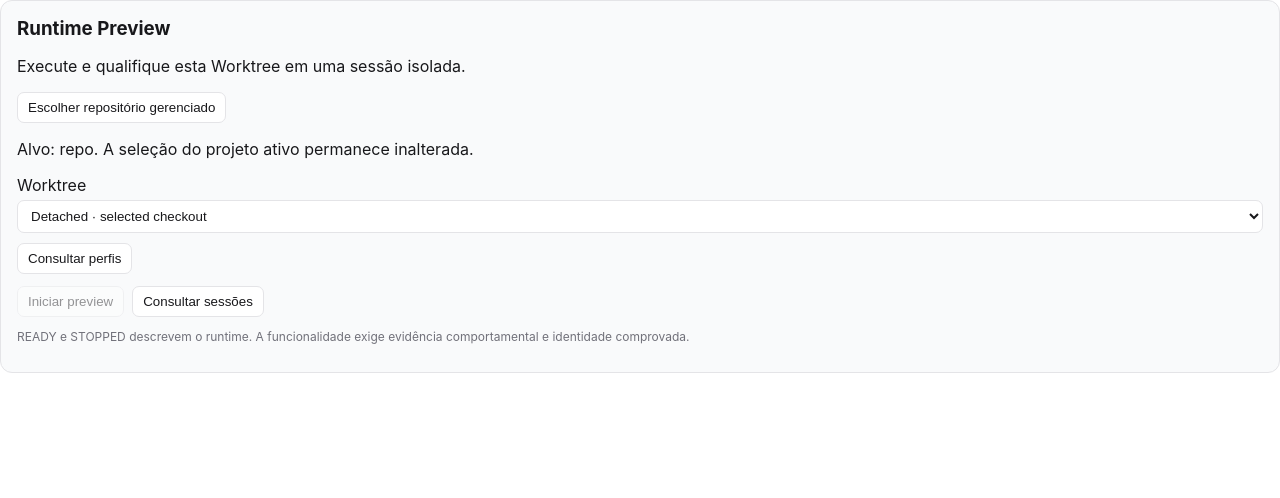
Scenario: consults a completed asynchronous preflight only for the exact selected identity
Click the button "Consultar perfis" at (75, 258), box [17,243,132,274]
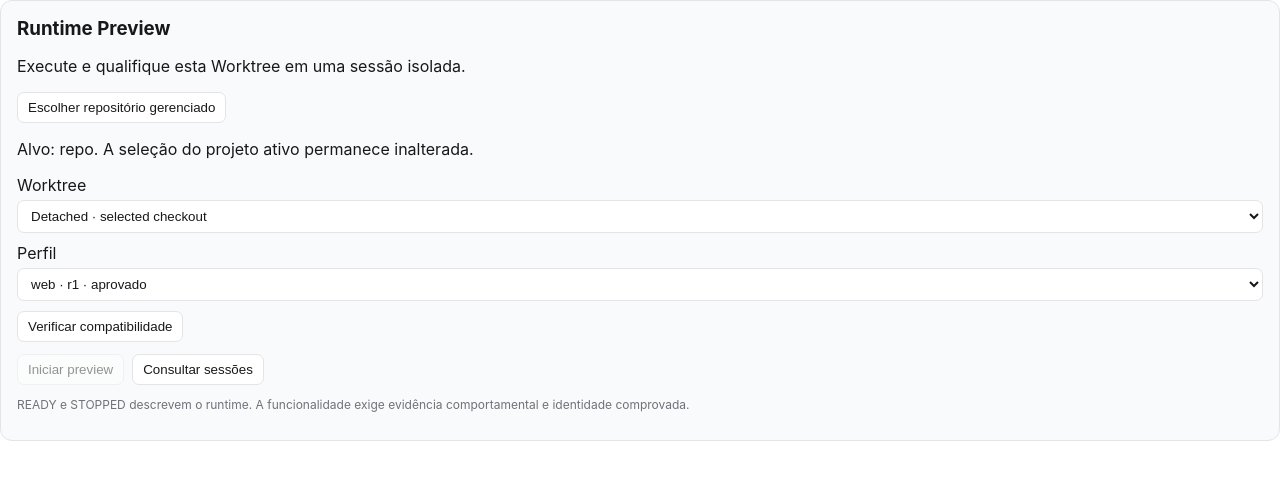
Click the button "Verificar compatibilidade" at (100, 326), box [17,311,184,342]
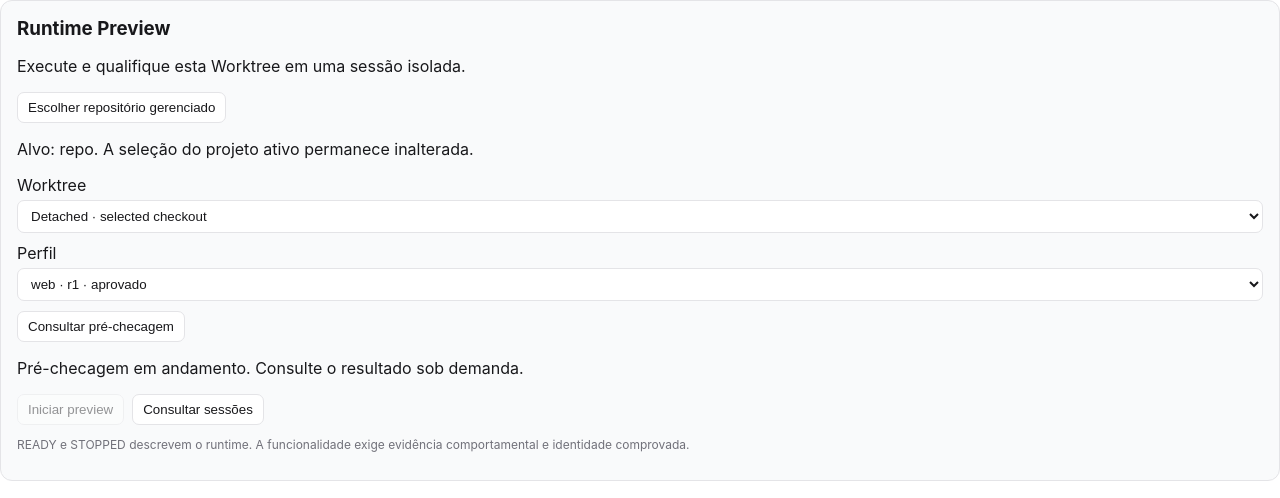
Click the button "Consultar pré-checagem" at (101, 326), box [17,311,185,342]
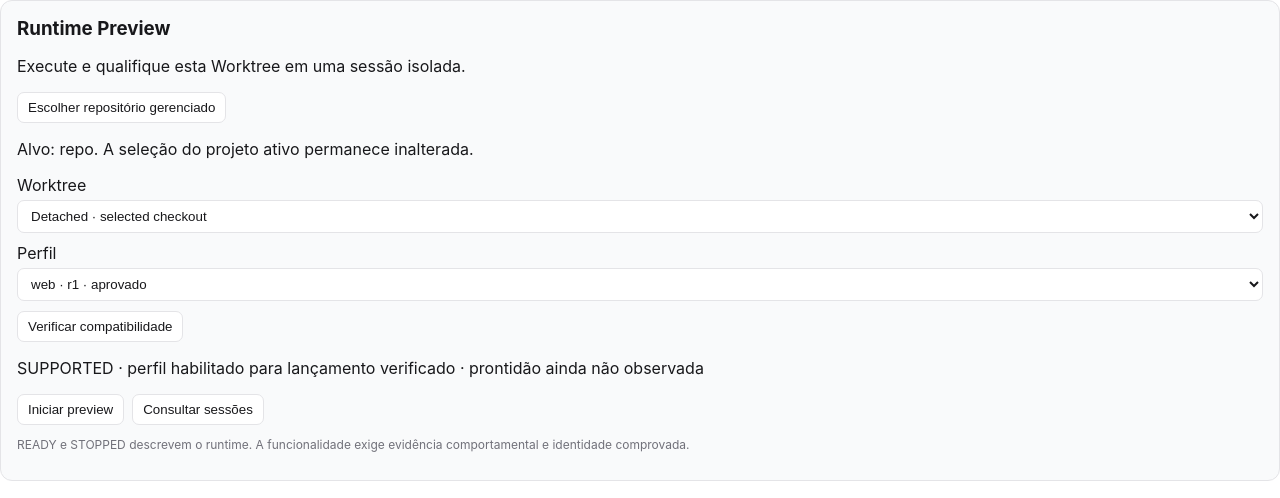
Result: the text "SUPPORTED" is shown at [17,358,114,378]
Result: the button "Iniciar preview" is enabled at [17,394,124,425]
